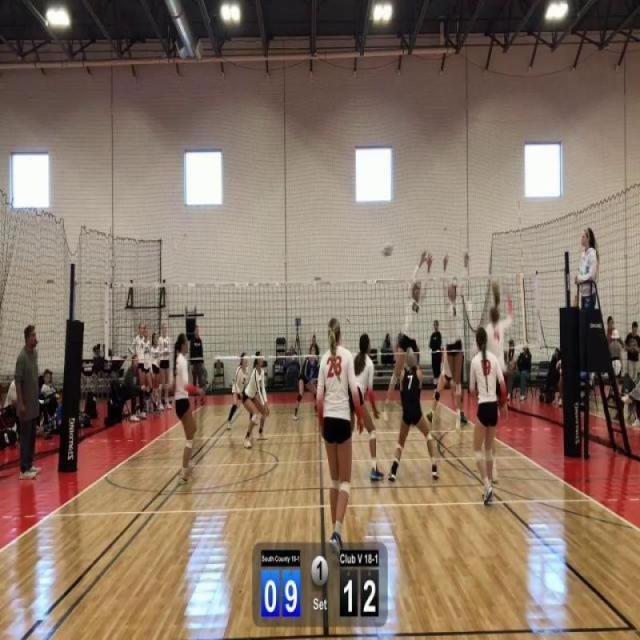volleyball: (380, 240, 394, 260)
